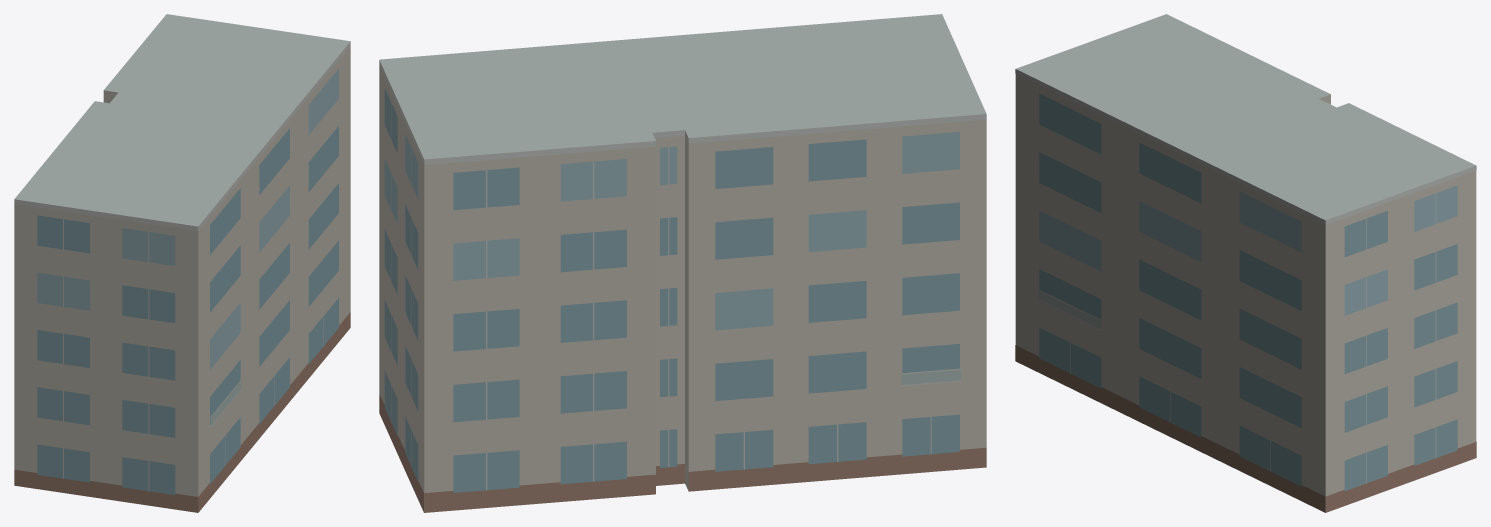
File: survey-upis-32954334.glb
3 views of the same model, side by side, from view 1: azimuth 30°, elevation 25°; view 2: azimuth 150°, elevation 25°; view 3: azimuth 270°, elevation 25° (orthographic). The views are drawn at different scales.
Visible parts, largest first — view 1: survey-upis-32954334.tmp; view 2: survey-upis-32954334.tmp; view 3: survey-upis-32954334.tmp.
Boxes of the visible parts, <box> form: survey-upis-32954334.tmp: <box>14,14,350,512</box>; survey-upis-32954334.tmp: <box>379,14,986,512</box>; survey-upis-32954334.tmp: <box>1015,14,1476,512</box>.
Size of the model in its own units: 23.1 by 15.25 by 21.79.
